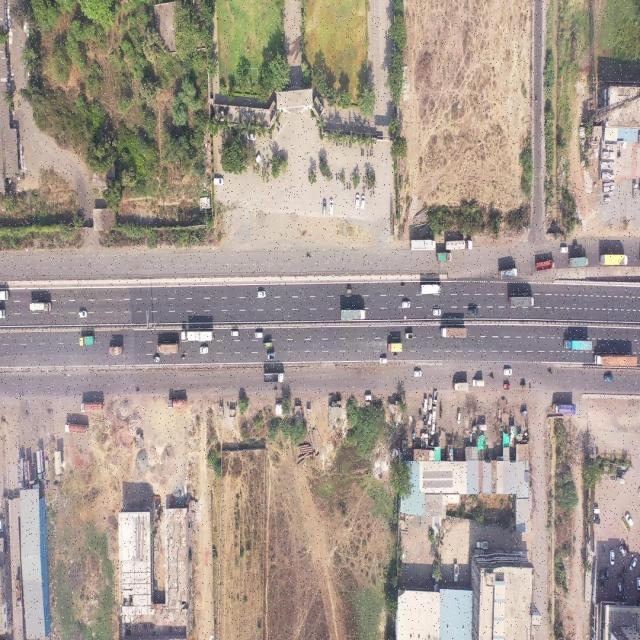3W: (519, 408, 529, 417), (504, 382, 511, 391), (520, 382, 527, 388), (572, 243, 578, 250), (347, 288, 352, 294)
Cars: (625, 509, 634, 529), (618, 542, 627, 558), (629, 554, 637, 572), (246, 131, 257, 143), (608, 549, 616, 565), (599, 569, 605, 588), (213, 176, 224, 186), (603, 373, 614, 383), (254, 330, 264, 340), (468, 307, 479, 316), (322, 198, 327, 217), (329, 198, 334, 217), (254, 153, 261, 166), (230, 329, 240, 338), (432, 308, 442, 317), (503, 368, 513, 377), (355, 193, 360, 210), (257, 289, 266, 298), (361, 194, 366, 210), (456, 410, 461, 426), (199, 346, 209, 354), (559, 246, 569, 254), (634, 577, 640, 590), (617, 582, 622, 597), (78, 310, 87, 318), (402, 300, 410, 308), (414, 369, 422, 377), (379, 357, 388, 364), (428, 395, 432, 410), (423, 398, 427, 412), (428, 412, 432, 425), (433, 404, 436, 420)
LCV: (476, 539, 490, 550), (453, 562, 459, 584), (472, 379, 486, 388), (266, 352, 276, 361), (263, 341, 273, 349), (405, 332, 414, 340)
M2W: (306, 253, 312, 260), (362, 175, 366, 184), (548, 368, 553, 375), (136, 387, 141, 394), (535, 95, 538, 105), (393, 353, 398, 359), (490, 373, 494, 380), (349, 173, 352, 182), (180, 355, 185, 360), (401, 283, 405, 289), (345, 141, 348, 148), (339, 172, 341, 182), (603, 246, 608, 250), (273, 388, 278, 392), (336, 172, 338, 181), (346, 181, 348, 190), (373, 187, 375, 196), (362, 148, 364, 157), (331, 172, 333, 181), (372, 150, 374, 158), (264, 168, 266, 176), (366, 150, 368, 158), (344, 183, 346, 191), (349, 184, 351, 191), (340, 141, 342, 147)
MAV: (593, 352, 638, 367), (563, 338, 593, 352), (470, 248, 502, 261), (180, 330, 214, 342), (445, 238, 474, 251), (600, 254, 628, 266)
Truck: (64, 420, 89, 436), (440, 326, 468, 339), (551, 402, 577, 415), (410, 239, 436, 252), (80, 400, 106, 413), (508, 296, 534, 308), (28, 301, 52, 313), (419, 283, 442, 295), (262, 372, 284, 383), (167, 397, 187, 409), (341, 309, 365, 319), (534, 260, 554, 272), (498, 268, 517, 280), (157, 343, 179, 353), (569, 256, 588, 267), (79, 335, 94, 347), (452, 381, 468, 392), (436, 252, 452, 262), (108, 346, 124, 355), (387, 343, 403, 352)
